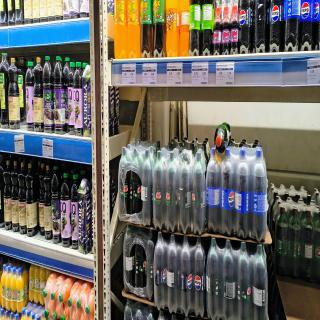Juice: (72, 58, 84, 138), (25, 164, 38, 237), (16, 161, 28, 237), (33, 56, 44, 134), (50, 162, 60, 242), (82, 62, 92, 138), (10, 158, 20, 234), (3, 158, 13, 233), (0, 51, 9, 130), (67, 61, 75, 136), (16, 267, 25, 313), (1, 262, 7, 310), (6, 265, 12, 312), (12, 267, 18, 313)
beverage: (250, 143, 268, 243), (250, 242, 268, 320), (235, 239, 252, 320), (166, 229, 181, 320), (191, 235, 207, 320), (178, 230, 193, 320), (206, 236, 222, 320), (222, 144, 236, 238), (192, 146, 206, 238), (237, 147, 250, 240), (178, 150, 192, 236), (207, 144, 220, 236), (152, 229, 166, 314), (164, 148, 178, 231), (222, 238, 236, 320), (288, 203, 302, 281), (152, 148, 166, 220), (122, 224, 135, 297), (276, 205, 288, 281), (129, 145, 141, 218), (118, 145, 130, 217), (140, 147, 152, 219), (133, 232, 146, 298), (303, 208, 314, 280), (145, 229, 154, 307), (190, 0, 202, 55), (127, 1, 139, 56), (112, 0, 126, 44), (166, 1, 176, 62), (229, 2, 239, 53), (222, 2, 231, 53), (214, 3, 222, 54), (215, 128, 226, 155), (50, 282, 59, 302), (67, 288, 76, 308), (75, 290, 84, 310), (60, 300, 69, 320), (43, 278, 51, 298), (59, 284, 67, 304), (84, 294, 92, 314), (44, 298, 52, 318), (52, 300, 60, 320)
